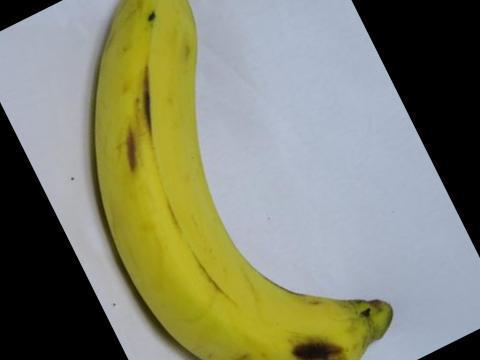freshripe: (73, 0, 402, 359)
